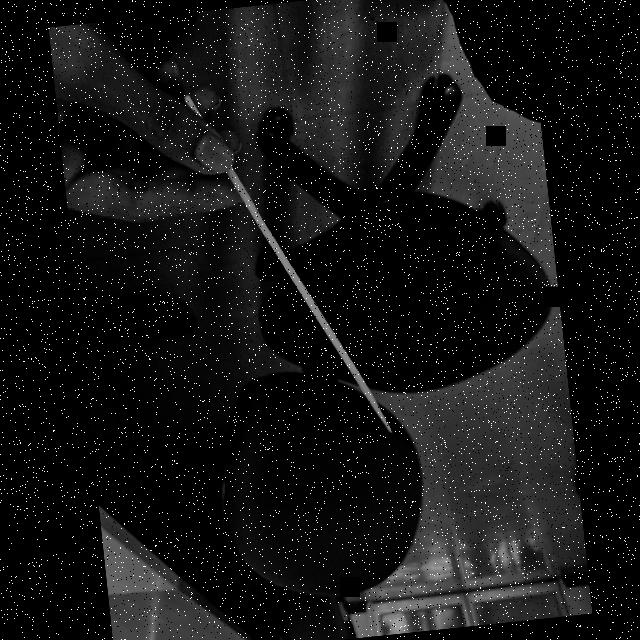stick: (228, 146, 400, 454)
